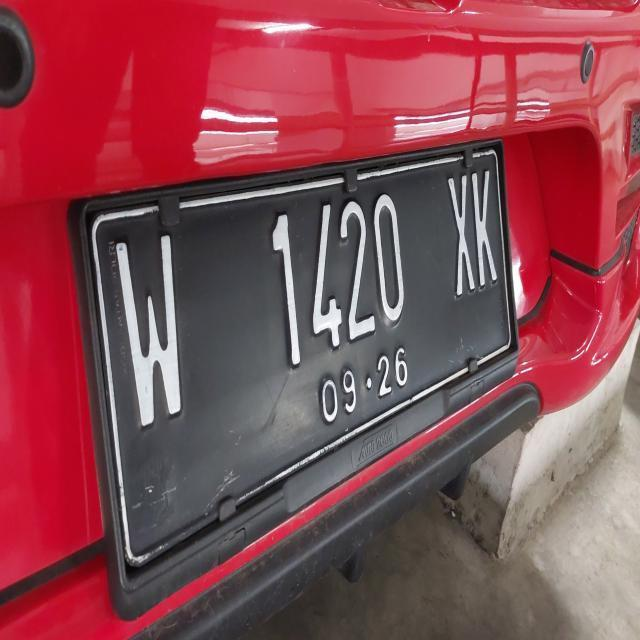0: (363, 174, 421, 322)
1: (251, 204, 314, 383)
2: (334, 182, 382, 354)
4: (298, 191, 352, 368)
K: (464, 152, 515, 296)
W: (103, 229, 208, 438)
X: (438, 158, 480, 314)
